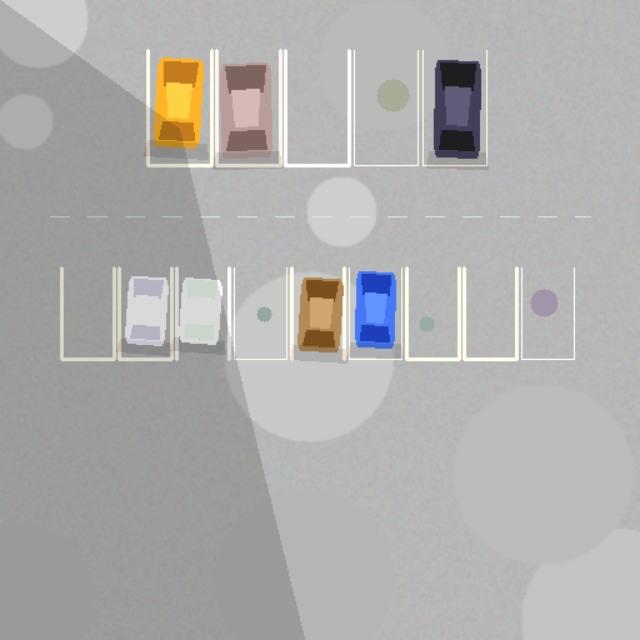space-empty: (285, 50, 349, 165), (354, 50, 417, 165), (61, 268, 114, 359), (406, 268, 459, 359), (521, 268, 574, 359), (234, 268, 286, 359), (464, 268, 516, 359)
space-occupied: (147, 50, 211, 165), (216, 50, 280, 165), (423, 50, 486, 165), (176, 268, 229, 359), (291, 268, 344, 359), (119, 268, 171, 359), (349, 268, 401, 359)
